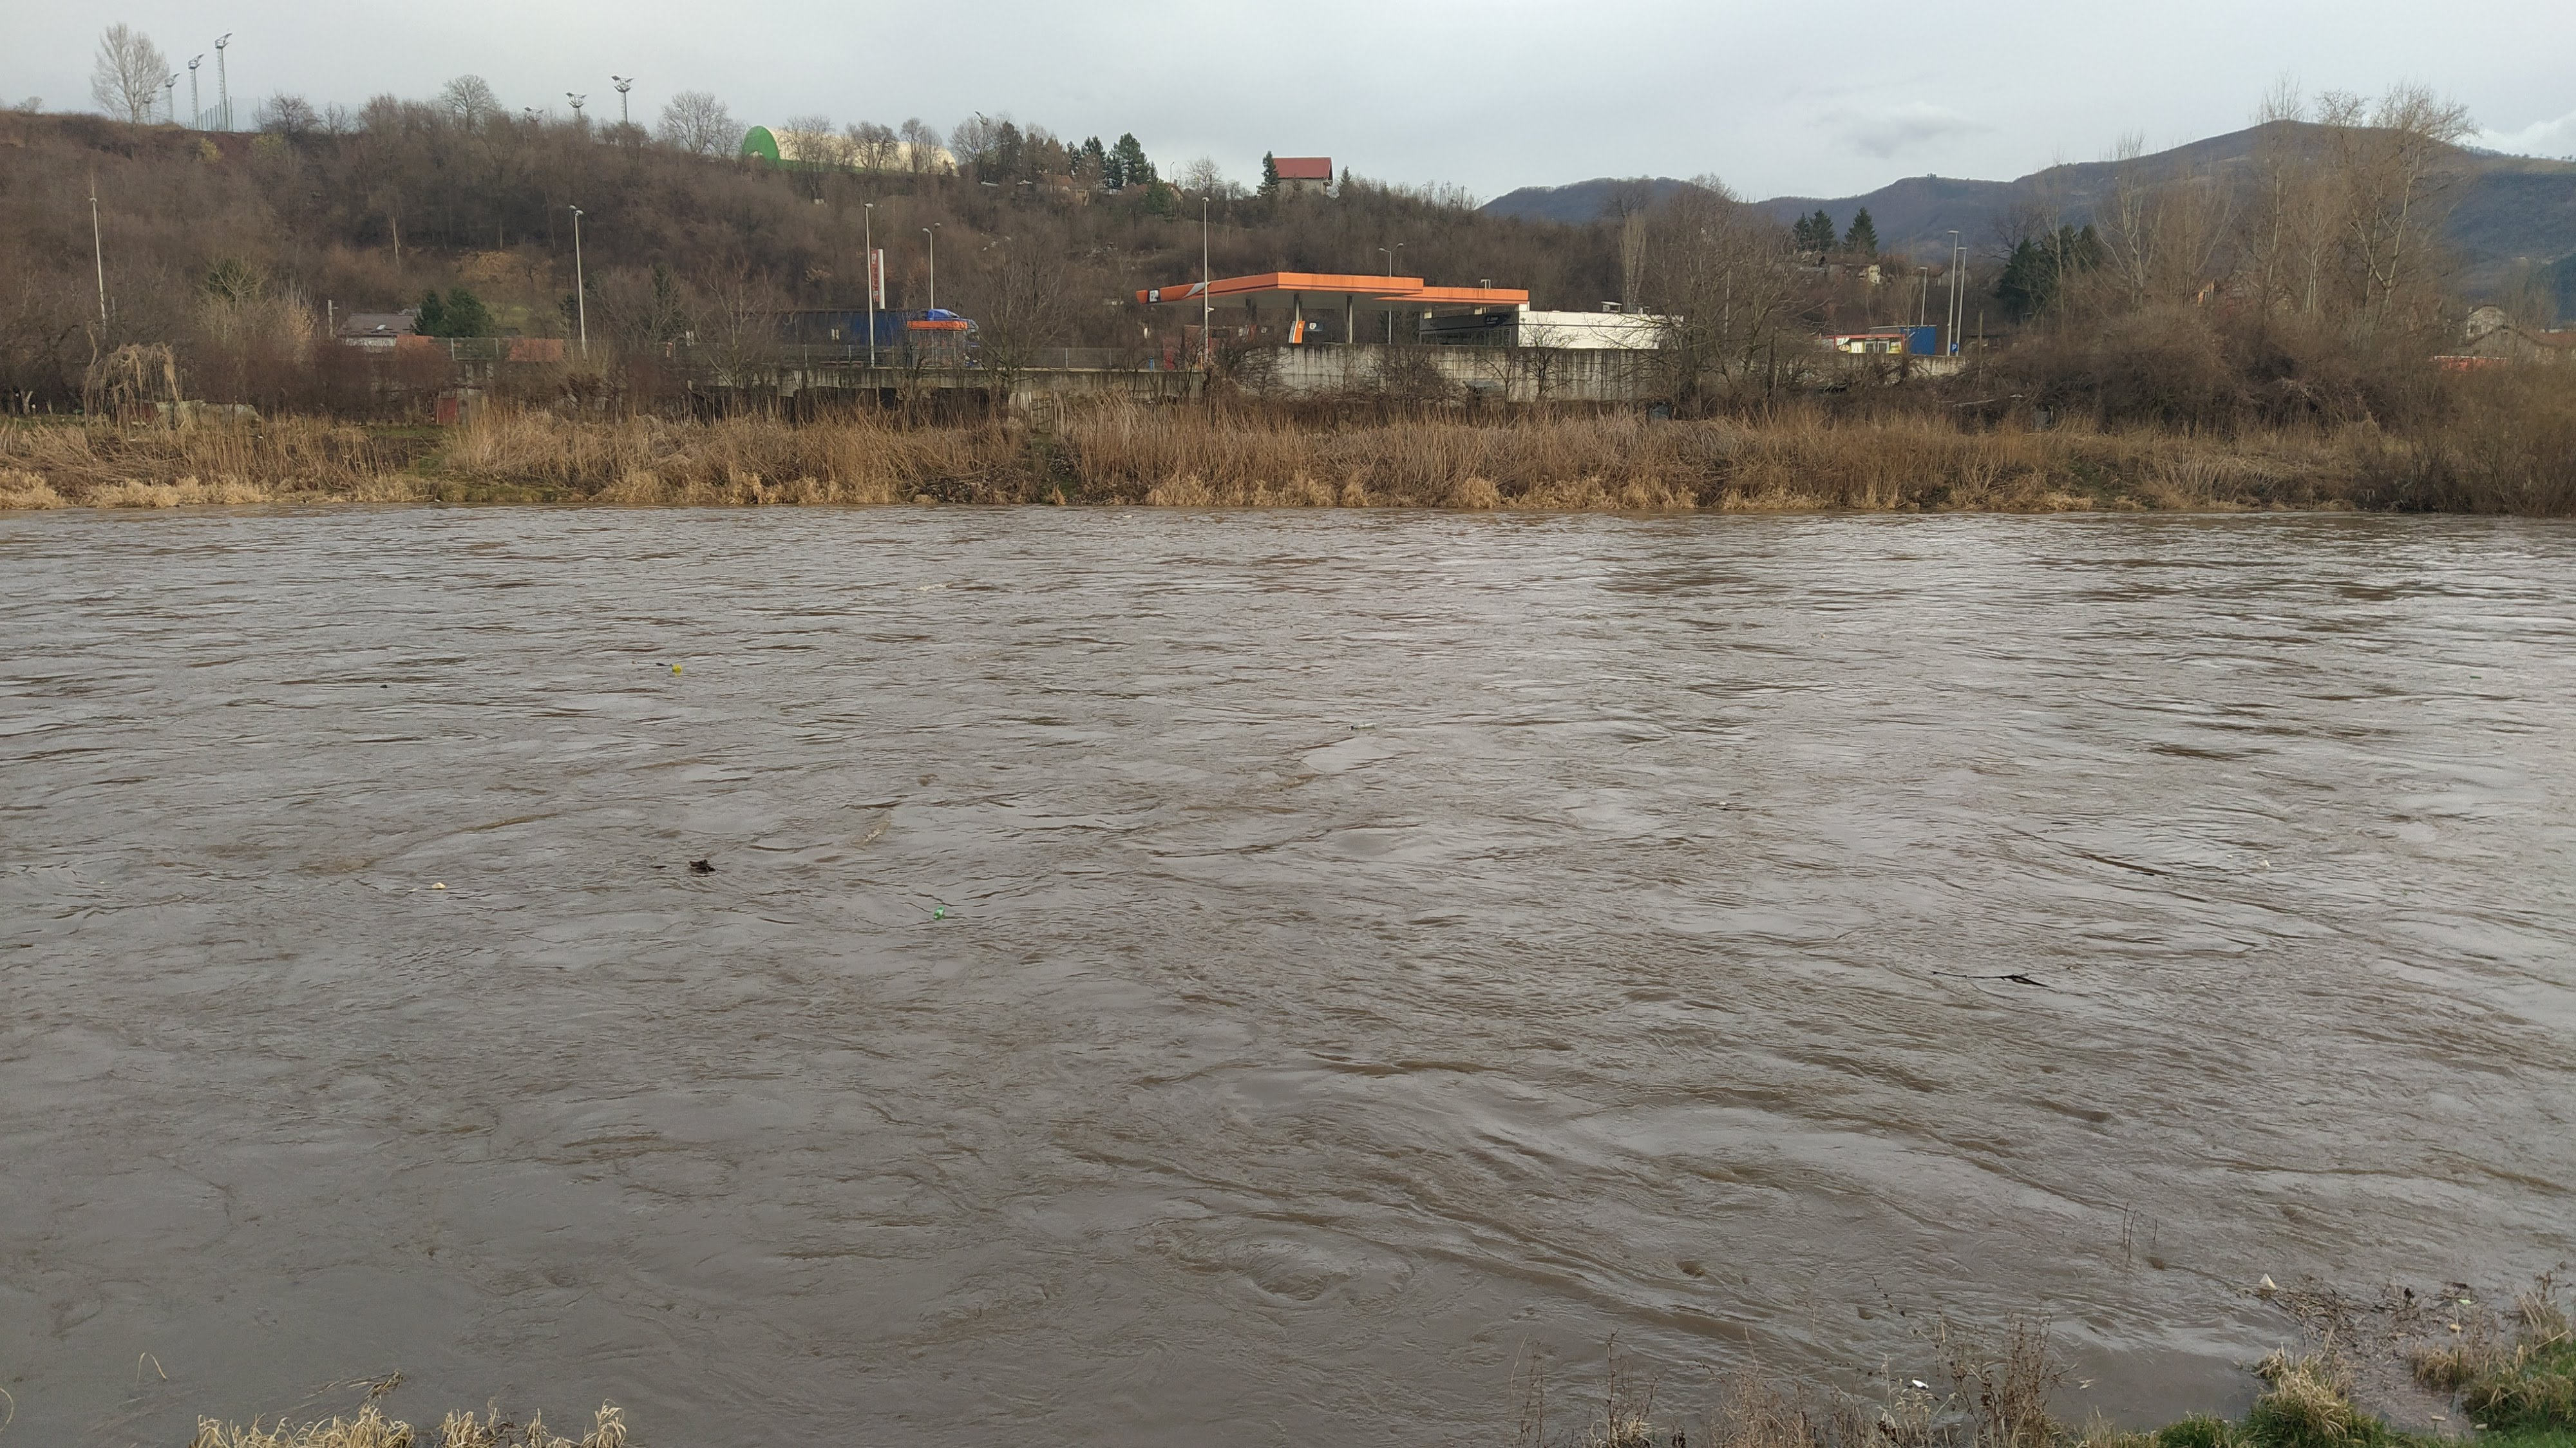Plastic Bottle: (2258, 1273, 2277, 1290), (1350, 722, 1376, 729), (932, 906, 945, 919), (672, 664, 681, 673), (2468, 674, 2480, 680), (2259, 860, 2268, 866), (1120, 515, 1132, 519), (380, 683, 386, 689)
